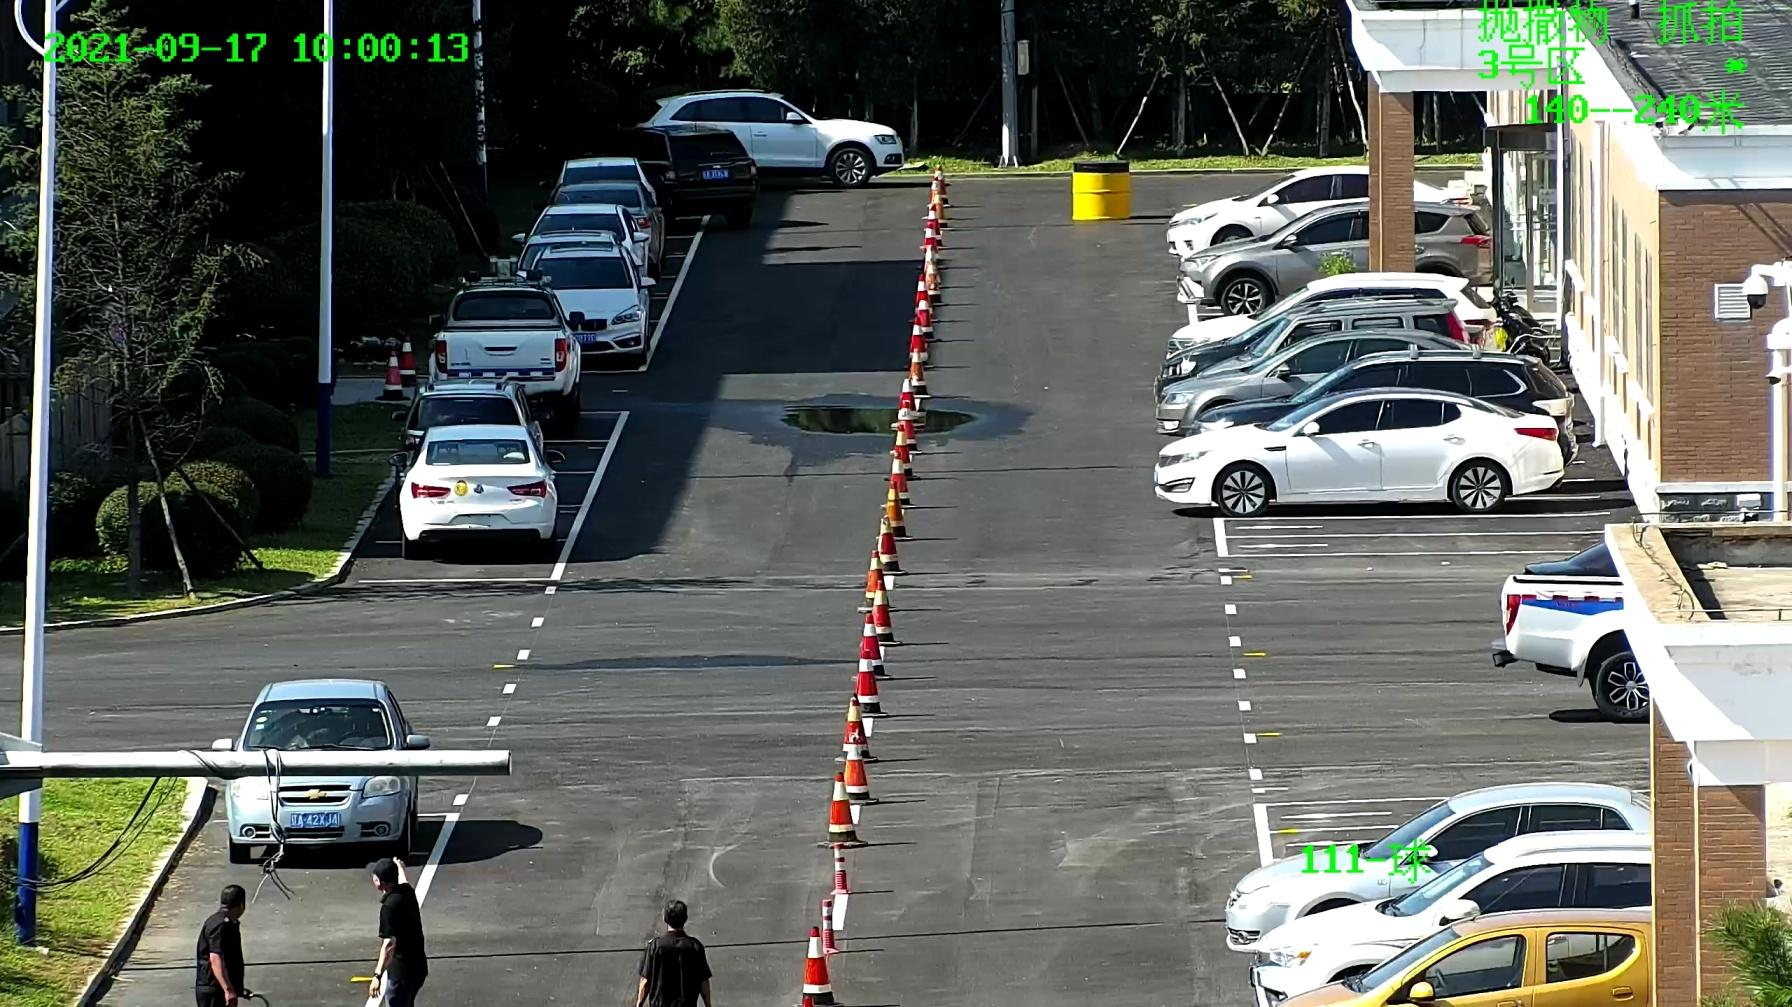cone_barrel: (795, 920, 834, 1005), (822, 773, 859, 846), (841, 732, 874, 804), (838, 694, 871, 760), (852, 651, 884, 716), (858, 612, 886, 680), (378, 339, 409, 399), (866, 580, 896, 643), (875, 515, 902, 575), (862, 552, 889, 608), (889, 425, 916, 481), (905, 315, 933, 368), (887, 451, 912, 506), (884, 481, 907, 538), (911, 295, 939, 340), (895, 375, 919, 425), (395, 334, 416, 391), (906, 348, 929, 396), (830, 842, 850, 895), (818, 897, 834, 953), (919, 222, 940, 254), (913, 275, 932, 309)
